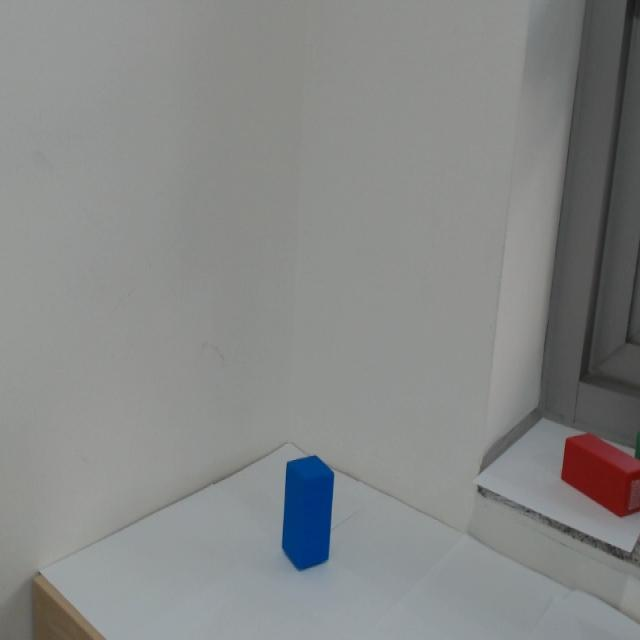cube: (278, 450, 360, 607)
